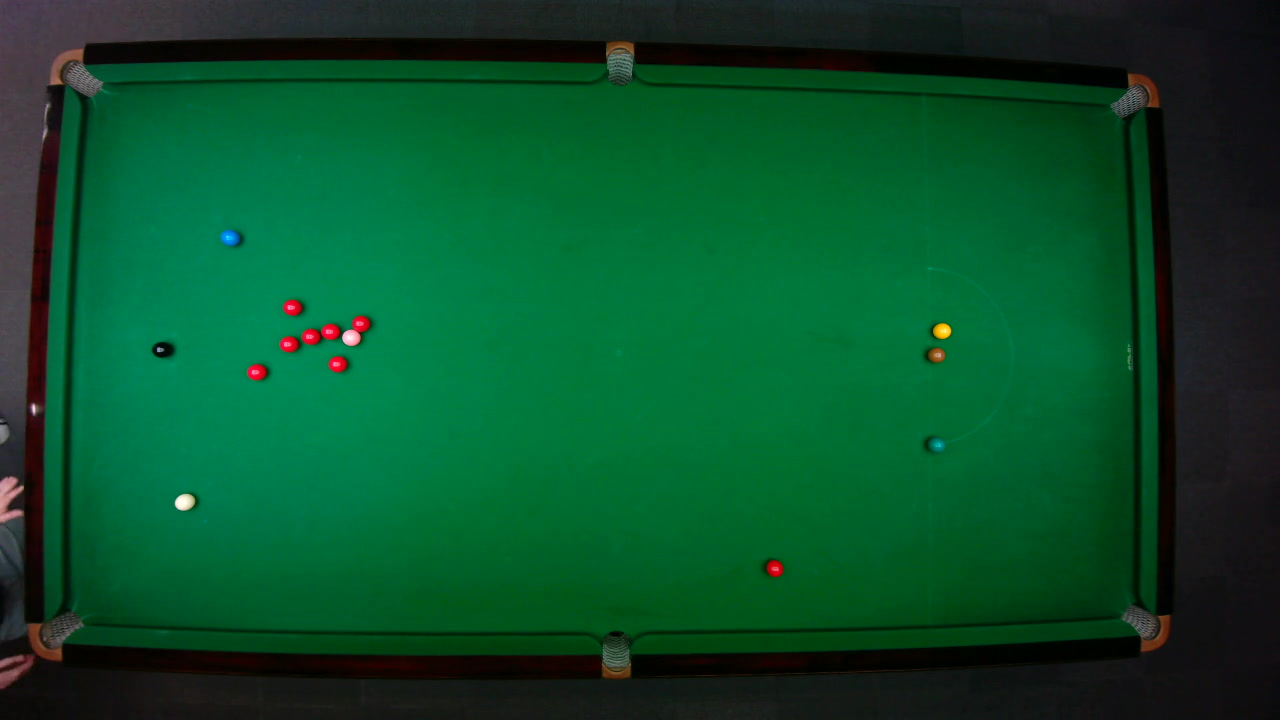bag: (27, 608, 85, 660), (47, 47, 104, 97), (1119, 602, 1170, 651), (1108, 72, 1160, 119), (601, 629, 630, 679), (605, 39, 633, 86)
black: (150, 340, 172, 358)
blue: (219, 228, 240, 246)
brown: (926, 346, 945, 362)
green: (925, 435, 945, 452)
pink: (340, 328, 361, 346)
red: (245, 362, 267, 381), (764, 557, 784, 577), (327, 354, 348, 373), (299, 327, 321, 345), (277, 334, 299, 352), (319, 321, 340, 339), (350, 314, 371, 332), (280, 298, 302, 315)
white: (173, 491, 196, 511)
yellow: (931, 321, 952, 339)
zone: (926, 265, 1013, 445)
